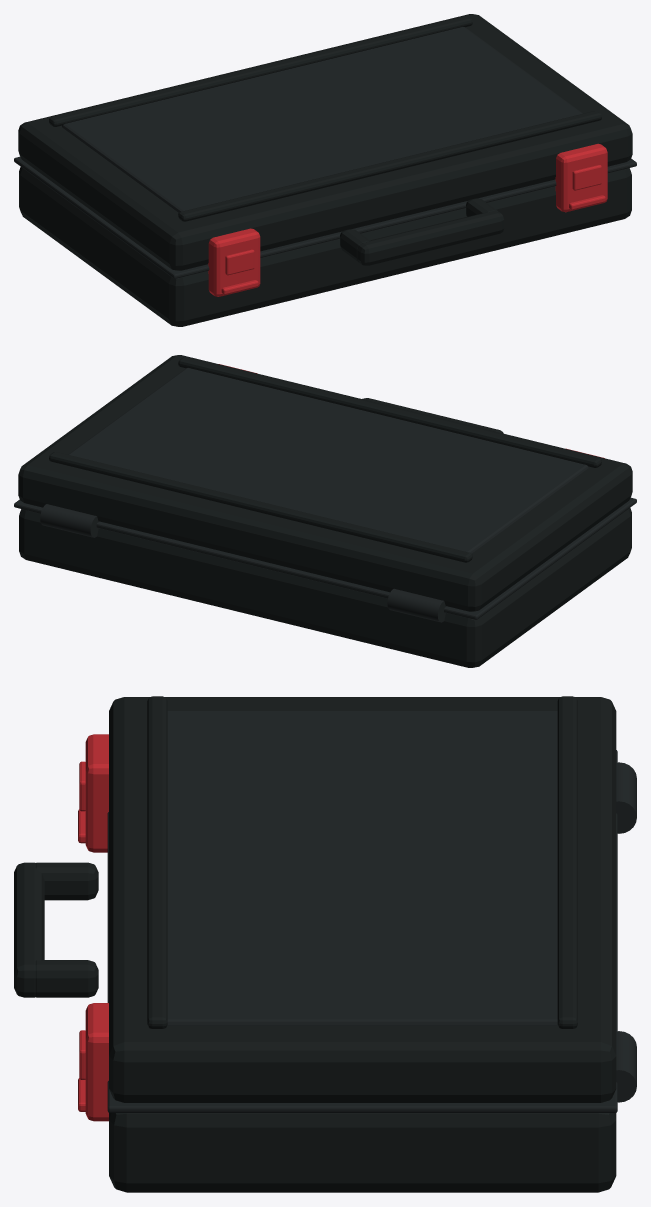
3 views of the same model, one above another, from view 1: azimuth 30°, elevation 25°; view 2: azimuth 150°, elevation 25°; view 3: azimuth 270°, elevation 25° (orthographic). The views are drawn at different scales.
Parts seen in each view (by area): view 1: Black lower molded shell, Black case split line, Bright red clasp; view 2: Black lower molded shell, Black case split line; view 3: Black lower molded shell, Black case split line, Bright red clasp.
Part boxes in pixels (x1,y1,x2,y2): Black lower molded shell: (18, 14, 632, 326); Black case split line: (14, 27, 636, 278); Bright red clasp: (208, 143, 607, 296); Black lower molded shell: (18, 355, 632, 667); Black case split line: (14, 368, 636, 622); Black lower molded shell: (14, 696, 616, 1192); Black case split line: (107, 711, 636, 1112); Bright red clasp: (78, 734, 108, 1121).
Bounding box in the file's own units: 0.331 × 0.0705 × 0.243.
